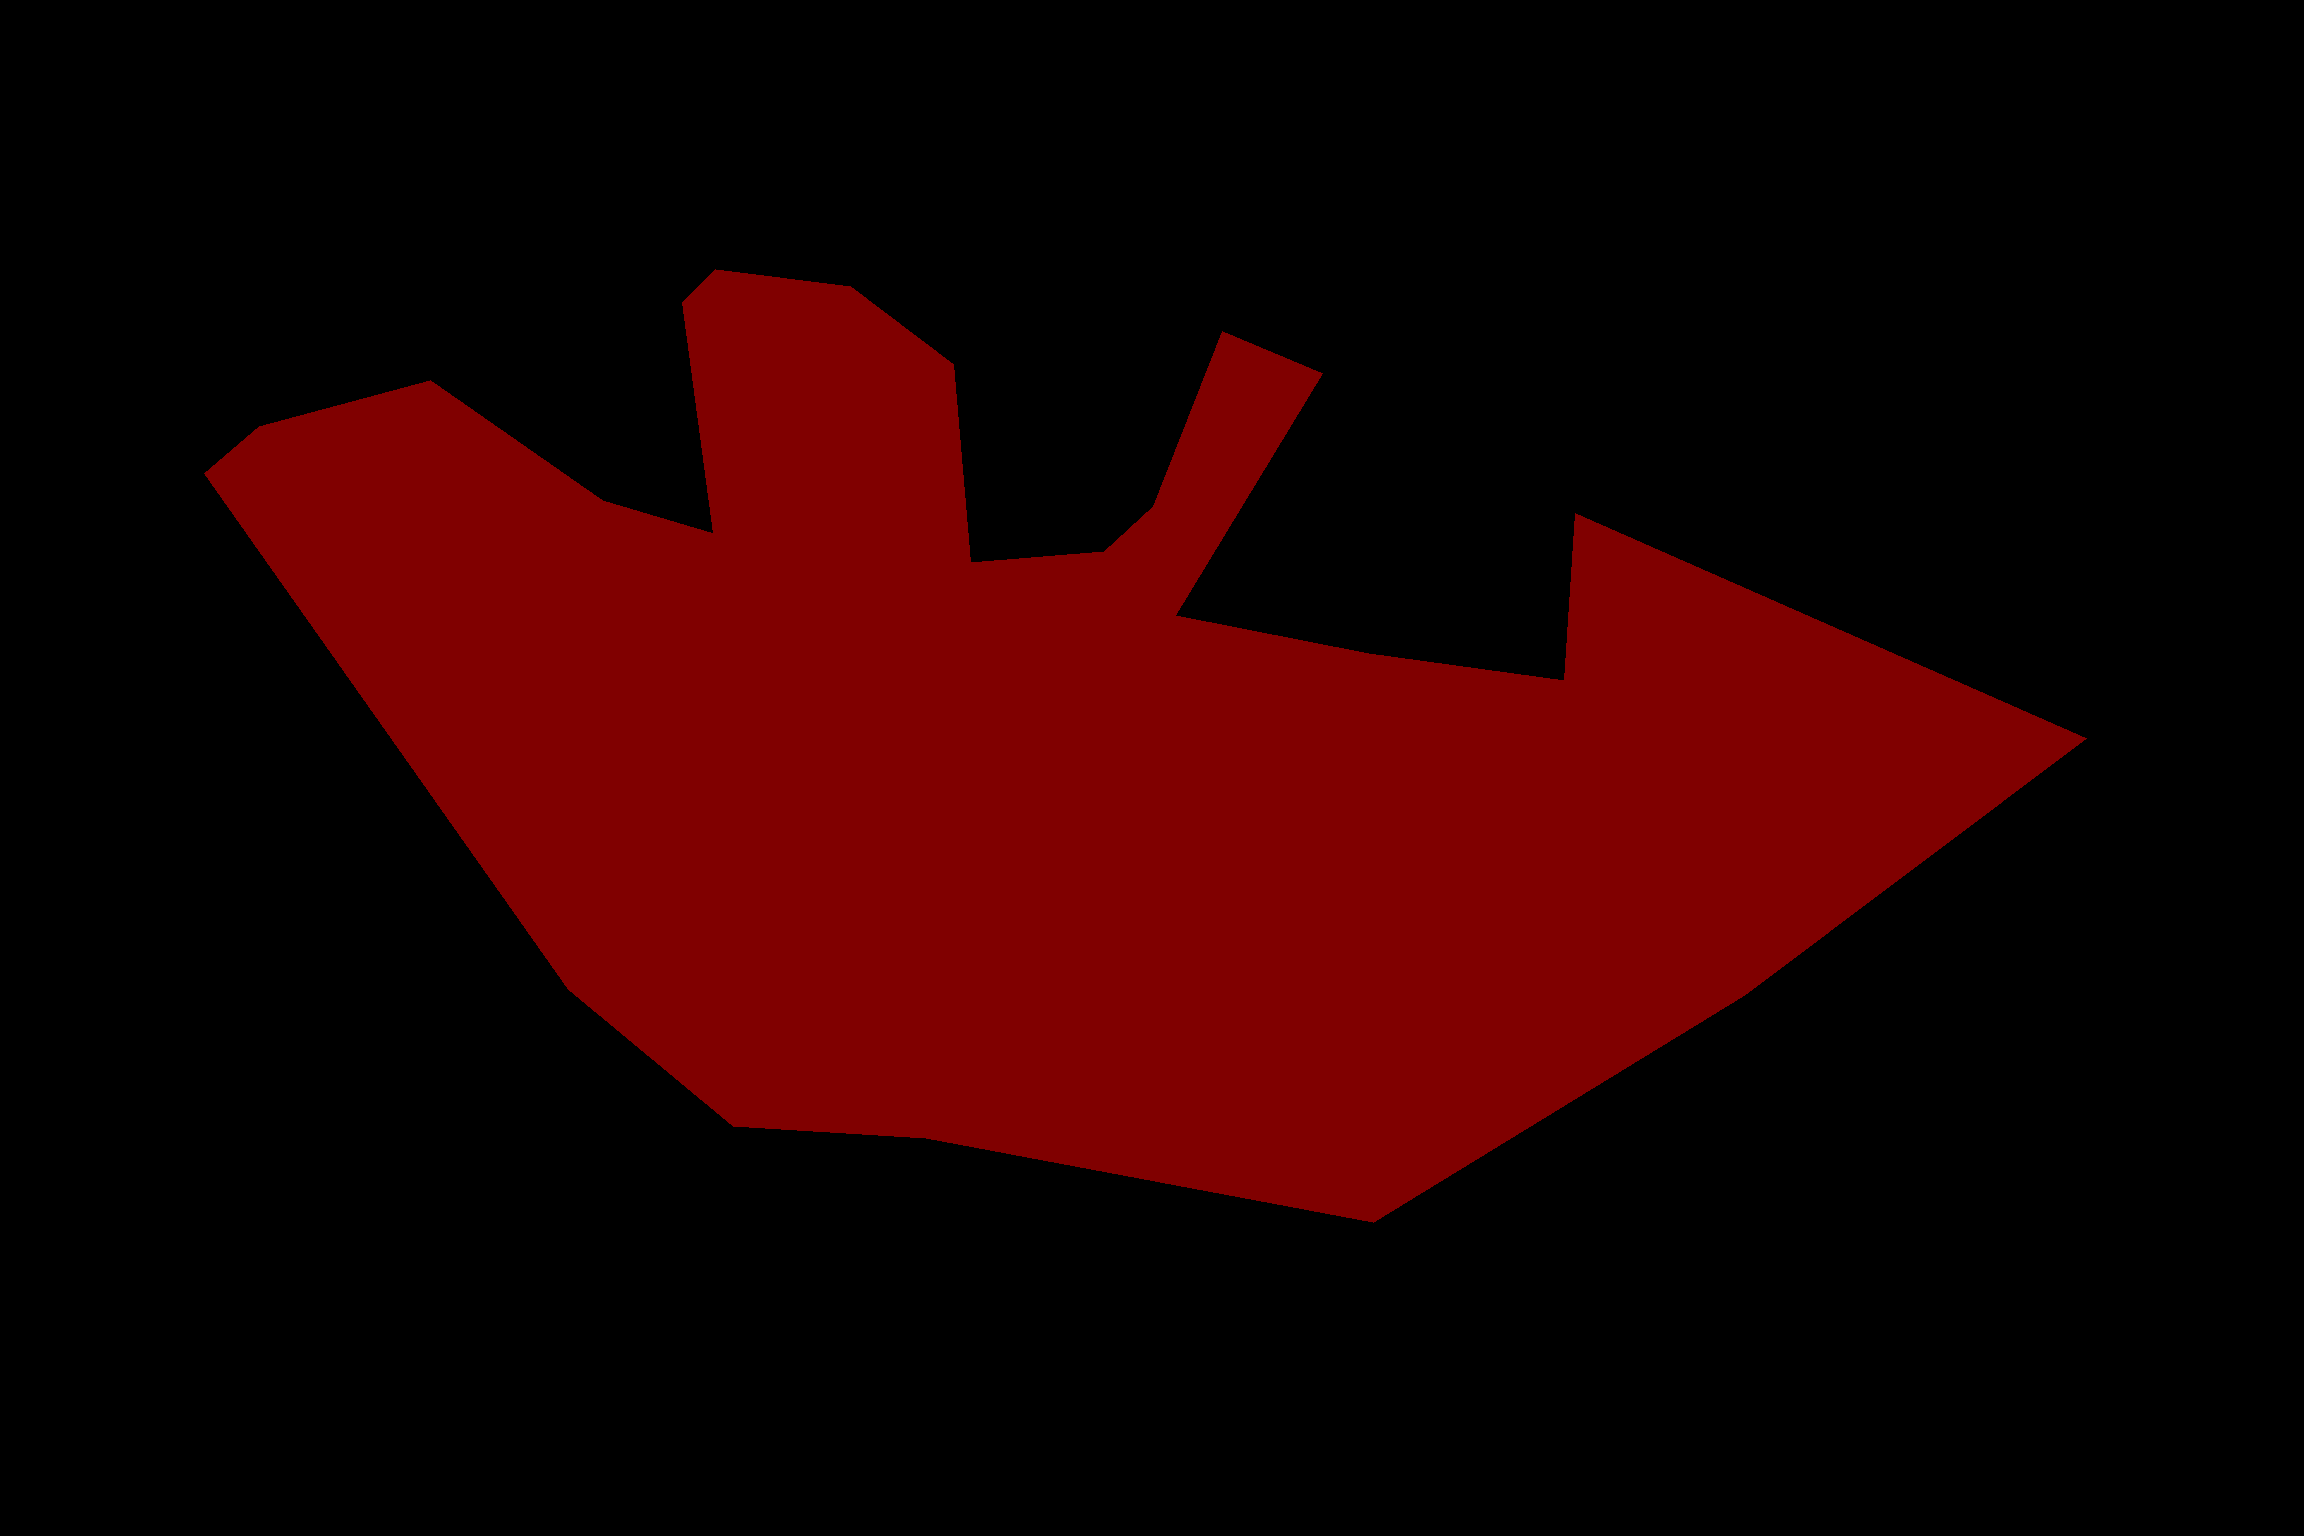fire: (204, 269, 2086, 1222)
